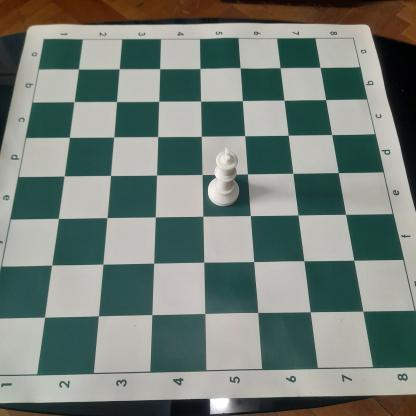white-king: (206, 145, 242, 208)
